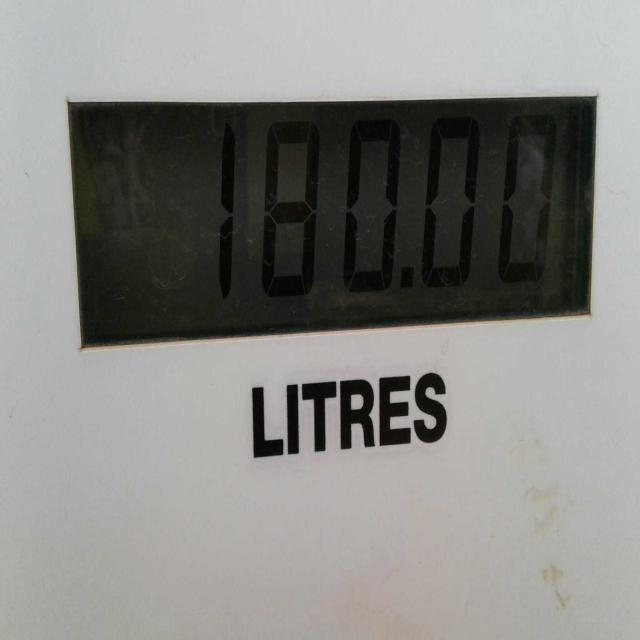.: (401, 261, 414, 292)
0: (424, 115, 476, 288), (344, 120, 396, 291), (500, 120, 552, 281)
1: (220, 130, 236, 296)
8: (262, 120, 314, 291)
